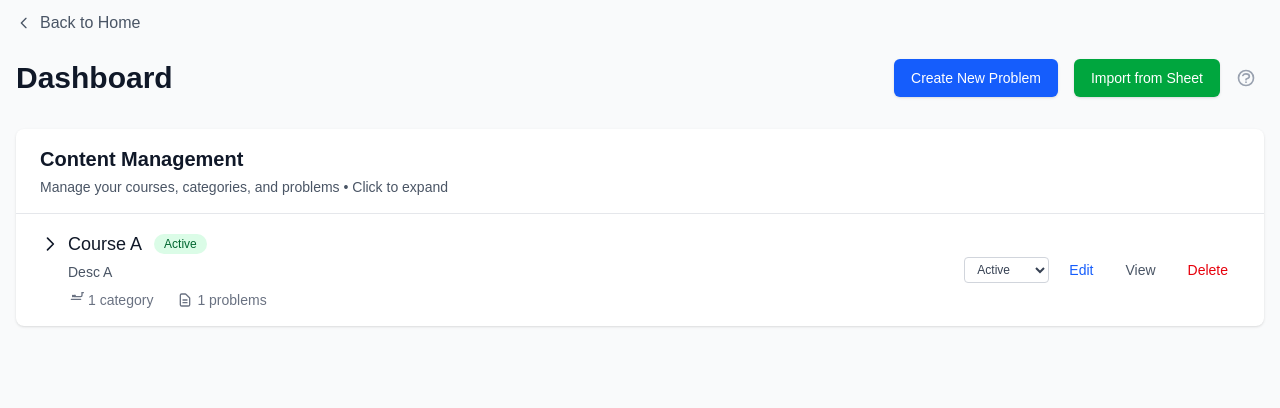
Test: TeacherClient › expands and collapses a course
The width and height of the screenshot is (1280, 408).
Click the button "Course A" at (91, 244), box [40,230,142,258]
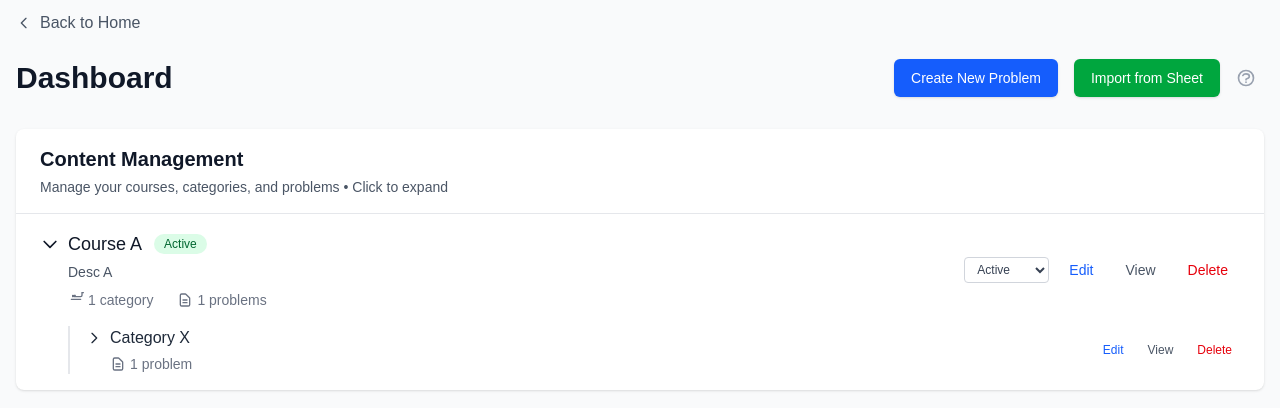
Result: the button "Category X" is shown at [86,326,190,350]
Click the button "Course A" at (91, 244), box [40,230,142,258]
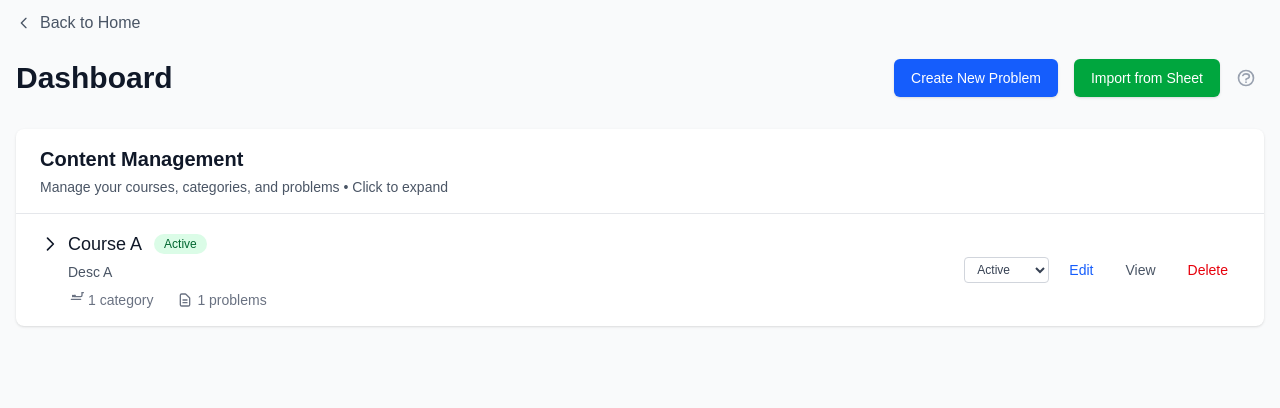
Result: the button "Category X" is gone
